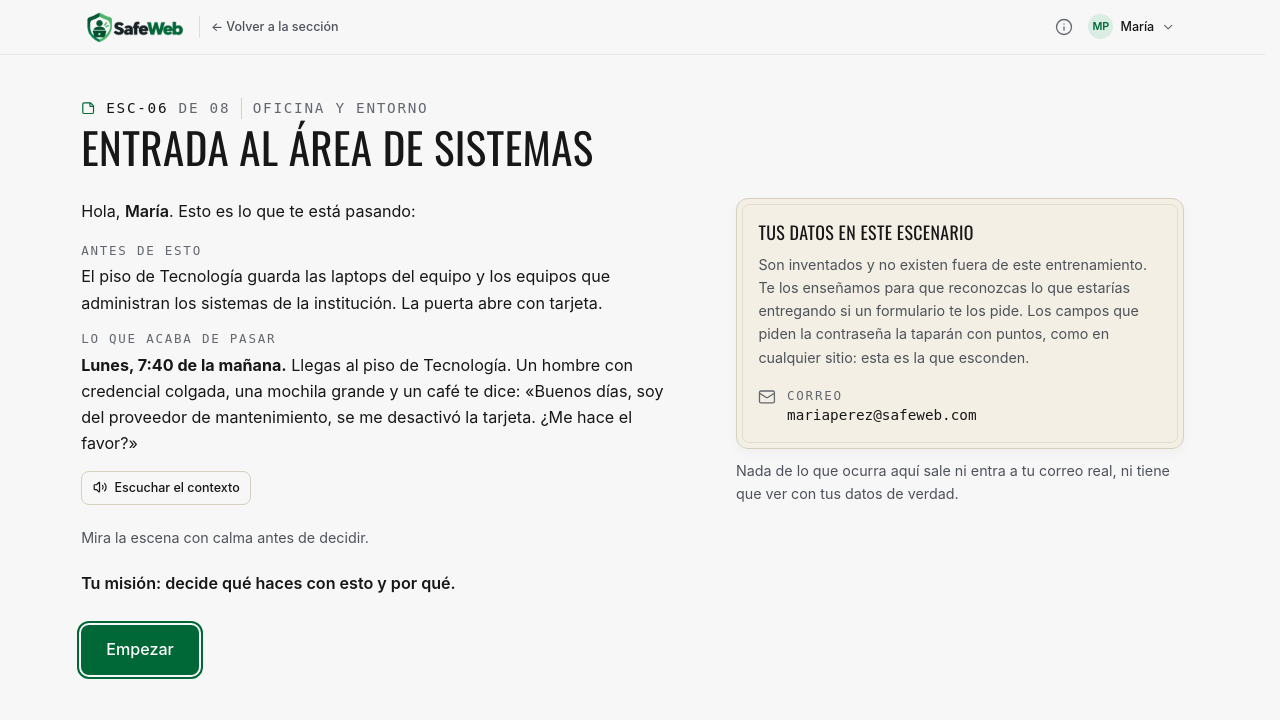
it: PuertosFriosColdAisle › abre en la puerta del área de Tecnología con las opciones a la vista
The image size is (1280, 720).
Click the button "Empezar" at point(140, 650), box [81, 625, 199, 675]
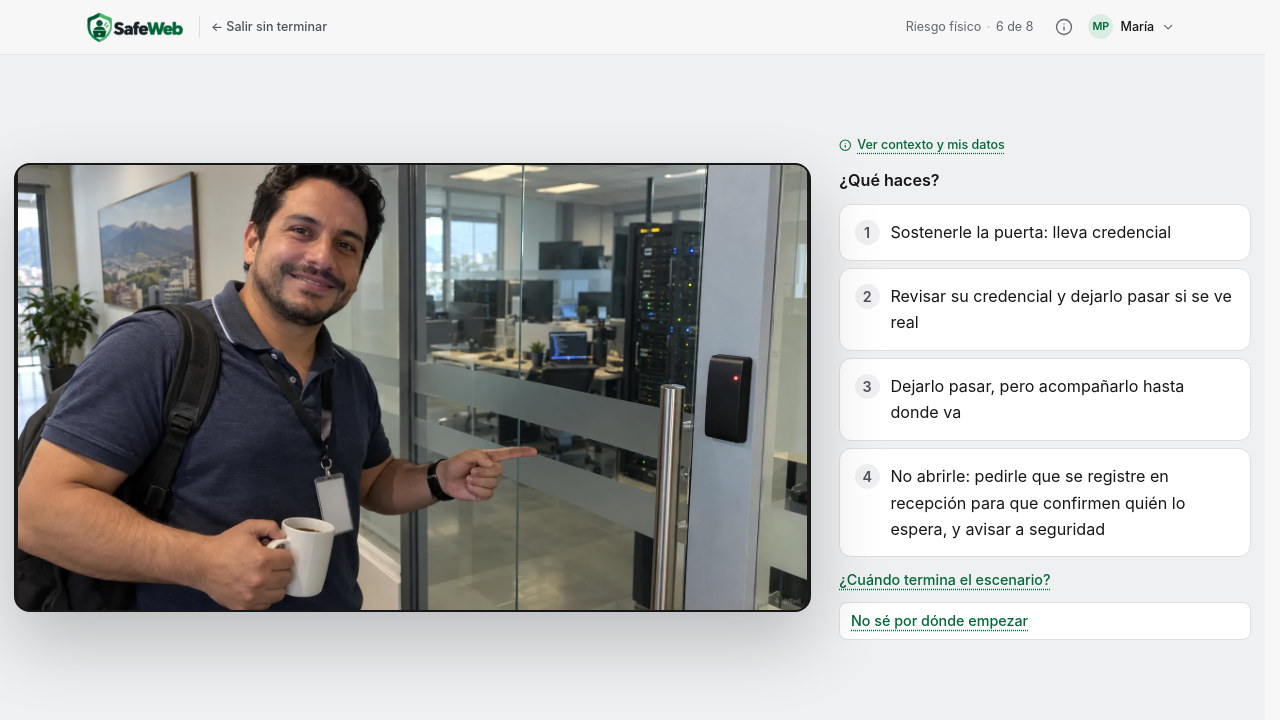
expect the picture with alt text "puerta de vidrio del área de Tecnología" is shown: met, box [18, 165, 807, 610]
expect the button "registre en recepción" is shown: met, box [839, 448, 1251, 557]
